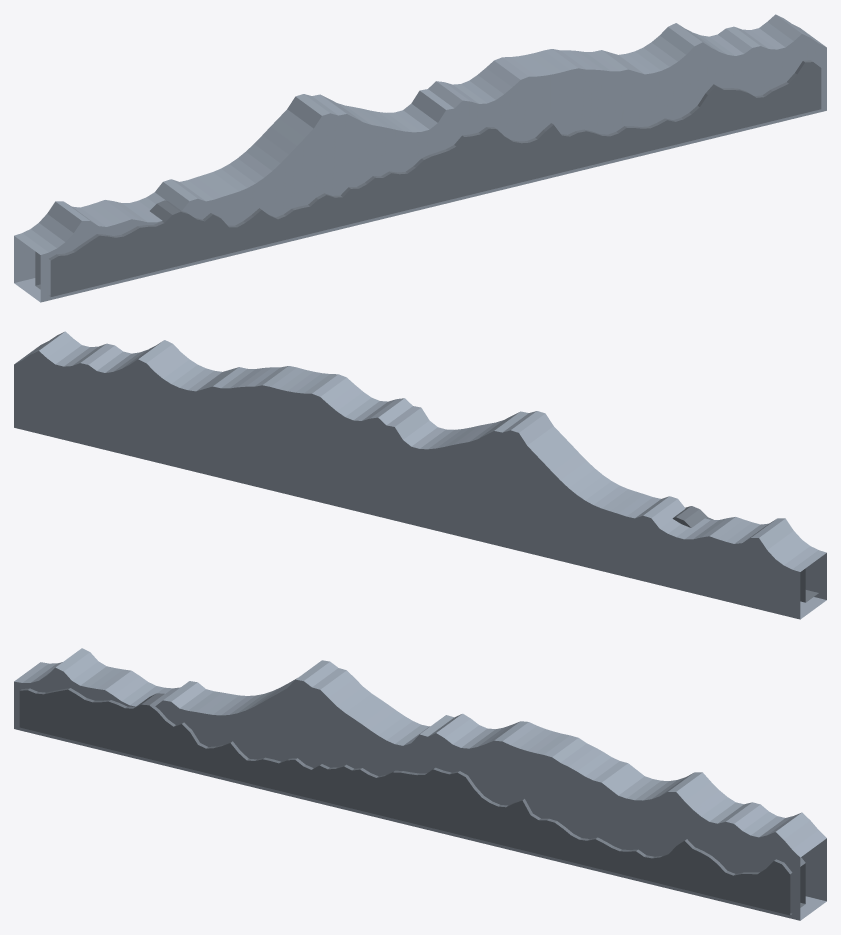
File: backdrop_winter_near.glb
The picture shows the model from 3 angles, top to bottom: view 1: azimuth 30°, elevation 25°; view 2: azimuth 150°, elevation 25°; view 3: azimuth 330°, elevation 25°; orthographic projection.
Visible parts, largest first — view 1: WinterNear, trim_WinterNear; view 2: WinterNear, trim_WinterNear; view 3: WinterNear, trim_WinterNear.
Boxes of the visible parts, x1=… form: WinterNear: x1=14, y1=14, x2=826, y2=302; trim_WinterNear: x1=35, y1=60, x2=821, y2=296; WinterNear: x1=14, y1=331, x2=826, y2=619; trim_WinterNear: x1=672, y1=506, x2=818, y2=602; WinterNear: x1=14, y1=648, x2=826, y2=920; trim_WinterNear: x1=19, y1=688, x2=805, y2=915.
Bounding box in the file's own units: 58 × 8.36 × 3.7.
